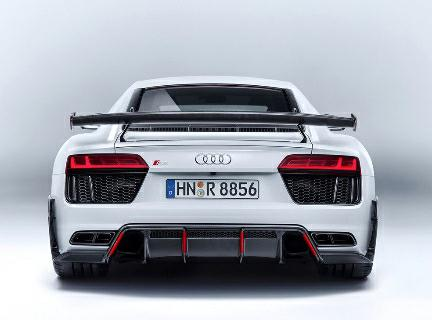奥迪-R8: (45, 76, 384, 293)
